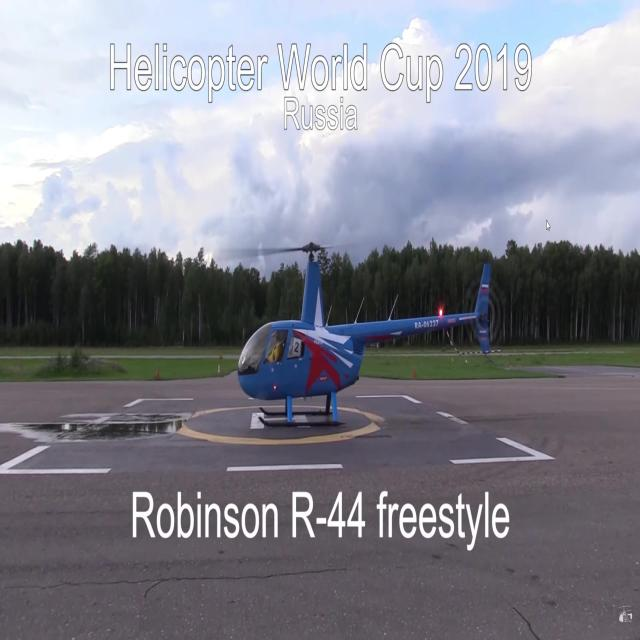CIV_HELO: (235, 238, 492, 432)
